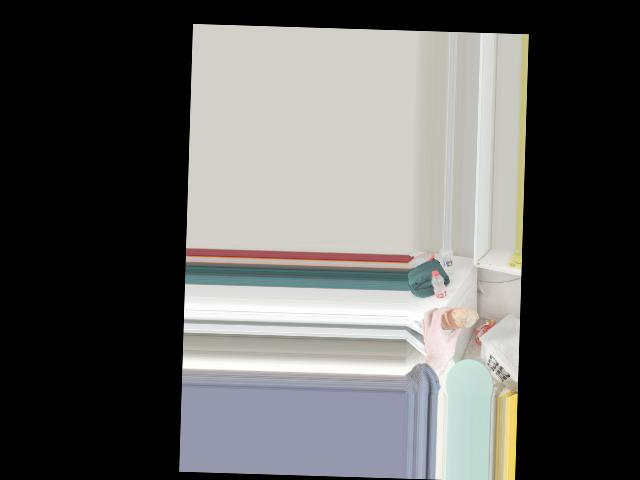sweet_potato: (430, 310, 467, 341)
